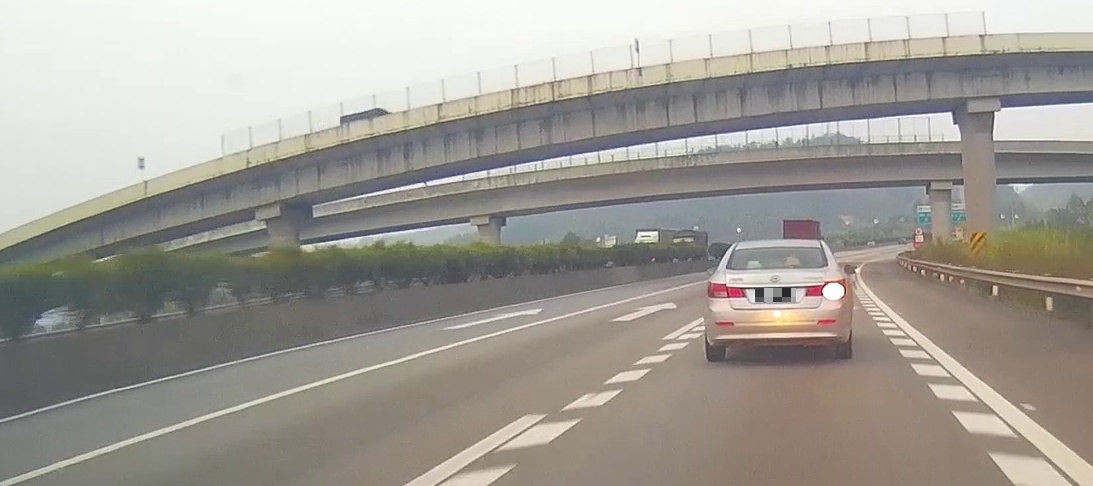L_light: (707, 279, 746, 299)
R_light: (805, 278, 847, 300)
T_light: (767, 263, 784, 268)
day-right: (704, 239, 853, 361)
plate_1: (755, 288, 796, 302)
